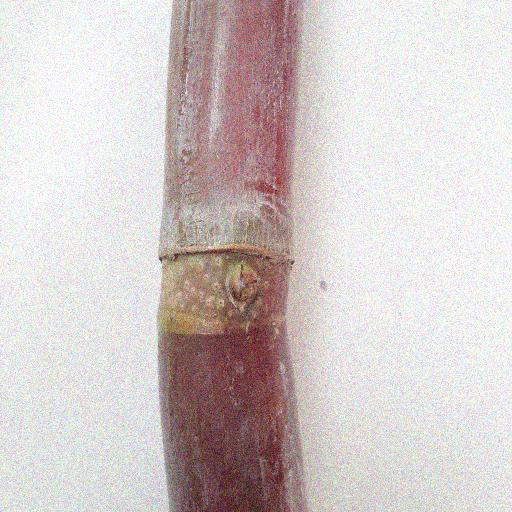Bud: (225, 260, 261, 313)
